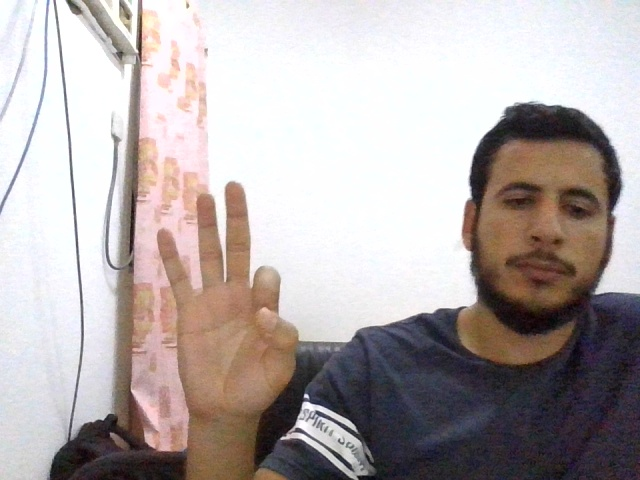Three: (157, 180, 299, 416)
